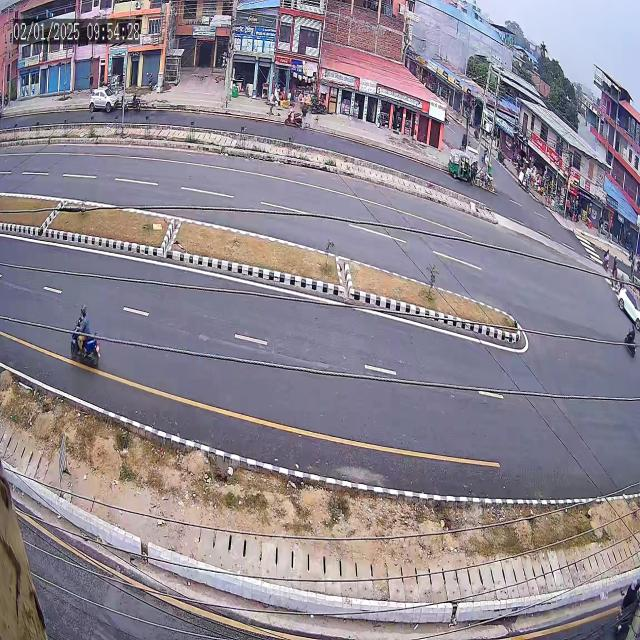car: (614, 273, 640, 336)
motorcycle: (57, 287, 106, 385), (619, 316, 638, 364)
